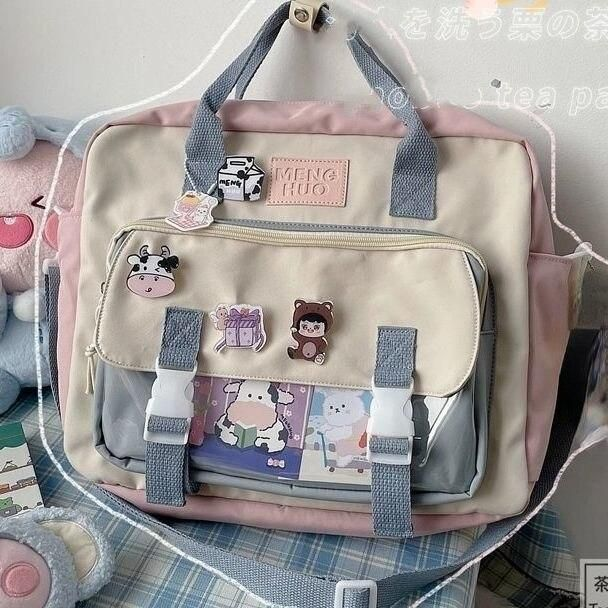nylon: (48, 96, 591, 540)
